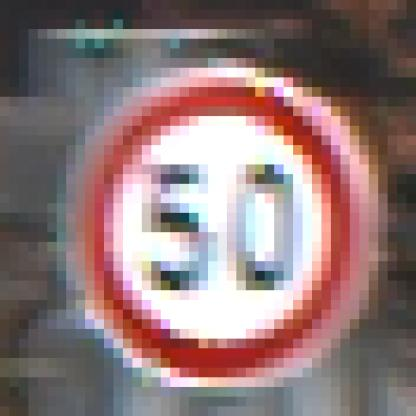Speed Limit 50: (82, 74, 357, 383)
